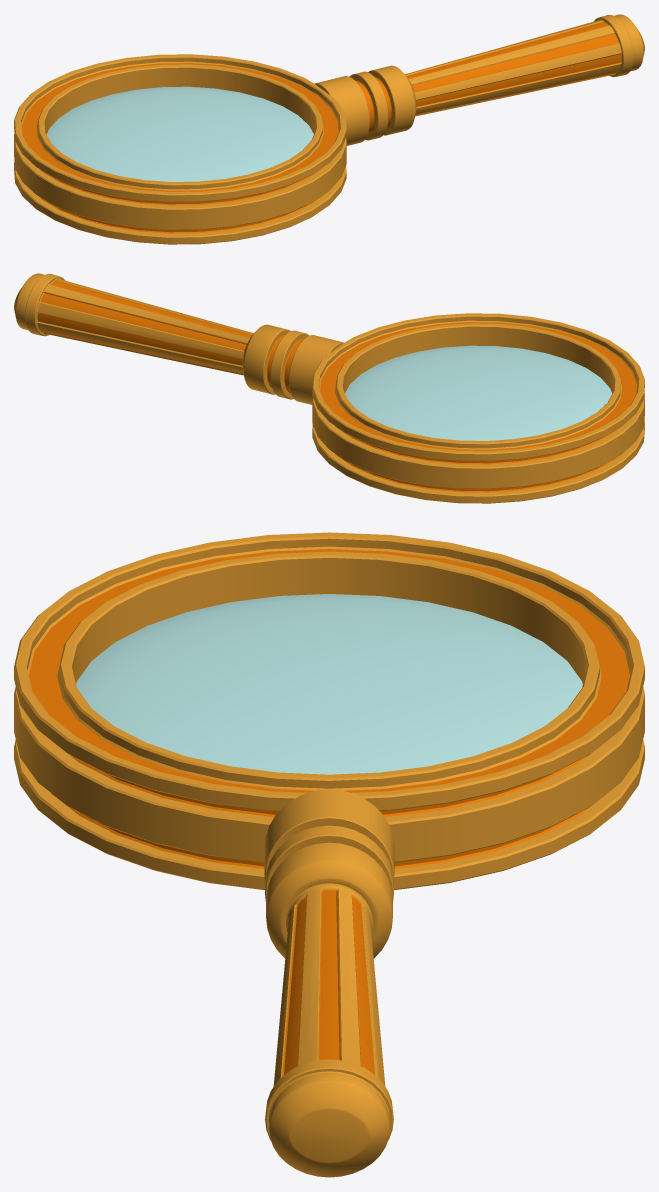
The model's file is readinfGlasses.fbx.
The picture shows the model from 3 angles, top to bottom: view 1: azimuth 30°, elevation 25°; view 2: azimuth 150°, elevation 25°; view 3: azimuth 270°, elevation 25°; orthographic projection. The views are drawn at different scales.
Visible parts, largest first — view 1: Circle, Sphere, Cylinder; view 2: Circle, Sphere, Cylinder; view 3: Circle, Sphere, Cylinder.
Boxes of the visible parts, bbox=[...] form: Circle: bbox=[14, 54, 346, 244]; Sphere: bbox=[46, 86, 313, 181]; Cylinder: bbox=[314, 14, 644, 145]; Circle: bbox=[312, 313, 644, 503]; Sphere: bbox=[345, 345, 612, 440]; Cylinder: bbox=[14, 273, 344, 404]; Circle: bbox=[14, 532, 644, 889]; Sphere: bbox=[76, 594, 582, 774]; Cylinder: bbox=[264, 789, 394, 1177].
Bounding box in the file's own units: 344 × 34.16 × 166.
